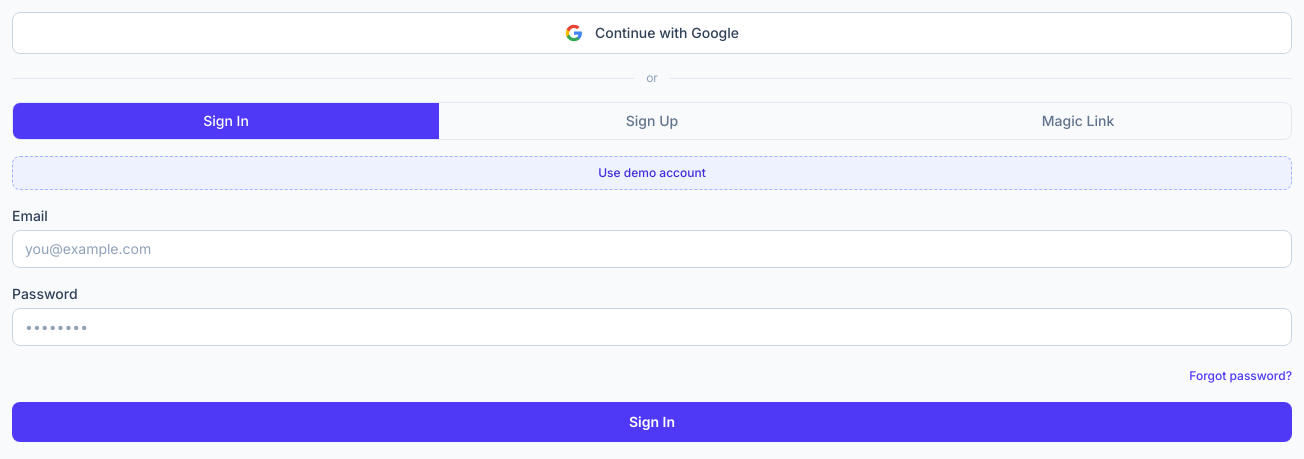
Test case: AuthForm — demo account › does not render the Use demo account button in reset mode
Click the button "Forgot password?".
click(1241, 376)  # box x1=1189 y1=368 x2=1292 y2=384
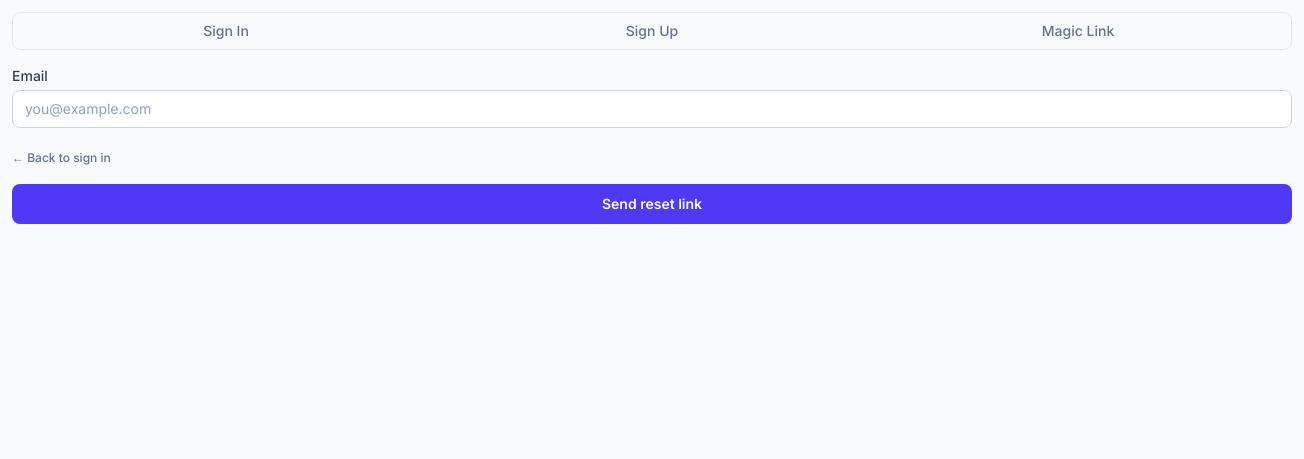
expect the button "Use demo account" is gone: met
